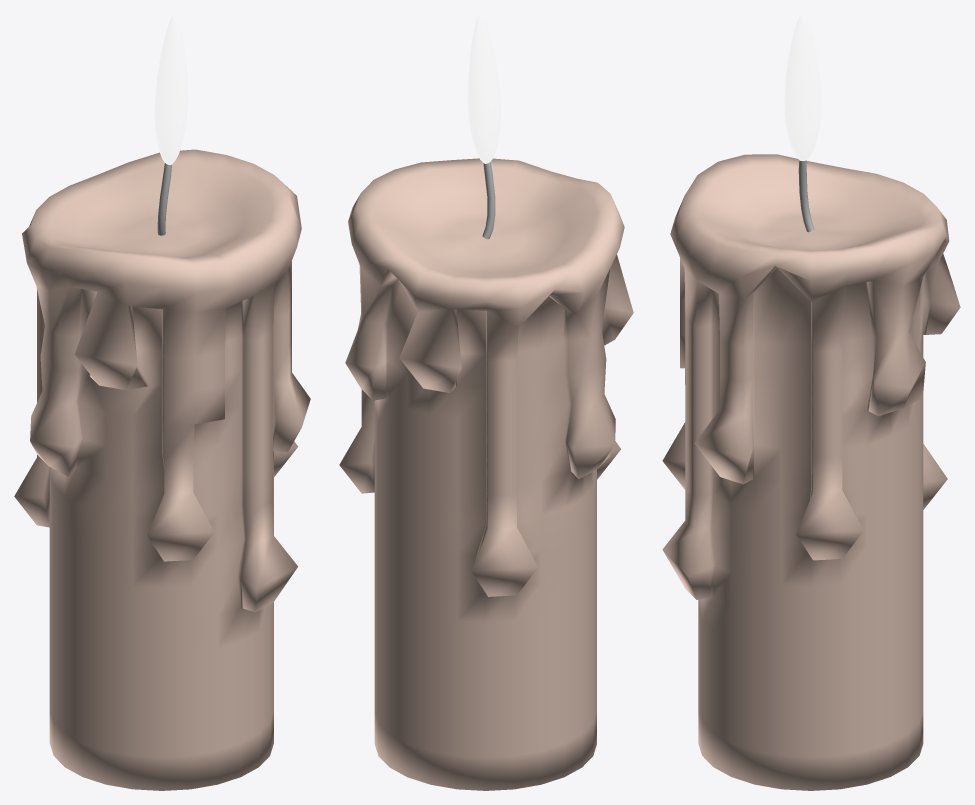
Rendered from Candle.glb.
3 views of the same model, side by side, from view 1: azimuth 30°, elevation 25°; view 2: azimuth 150°, elevation 25°; view 3: azimuth 270°, elevation 25° (orthographic).
Visible parts, largest first — view 1: Candle, Flame, Rope; view 2: Candle, Flame, Rope; view 3: Candle, Flame, Rope.
Part boxes in pixels (x1,y1,x2,y2): Candle: (14, 149, 310, 790); Flame: (154, 14, 187, 164); Rope: (157, 163, 171, 235); Candle: (339, 158, 633, 790); Flame: (467, 14, 500, 163); Rope: (482, 162, 495, 239); Candle: (662, 154, 960, 790); Flame: (784, 14, 821, 160); Rope: (798, 160, 814, 232).
Size of the model in its own units: 0.1834 by 0.4917 by 0.1811.
